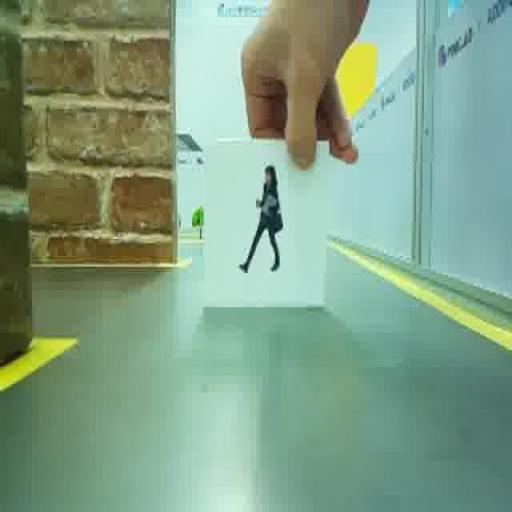human: (239, 165, 282, 272)
